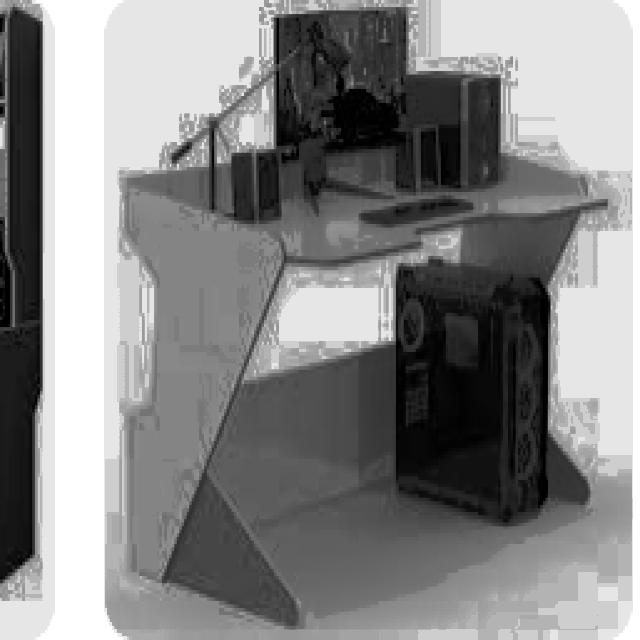paper: (222, 140, 294, 242), (391, 128, 451, 197)
table: (124, 155, 620, 634)
